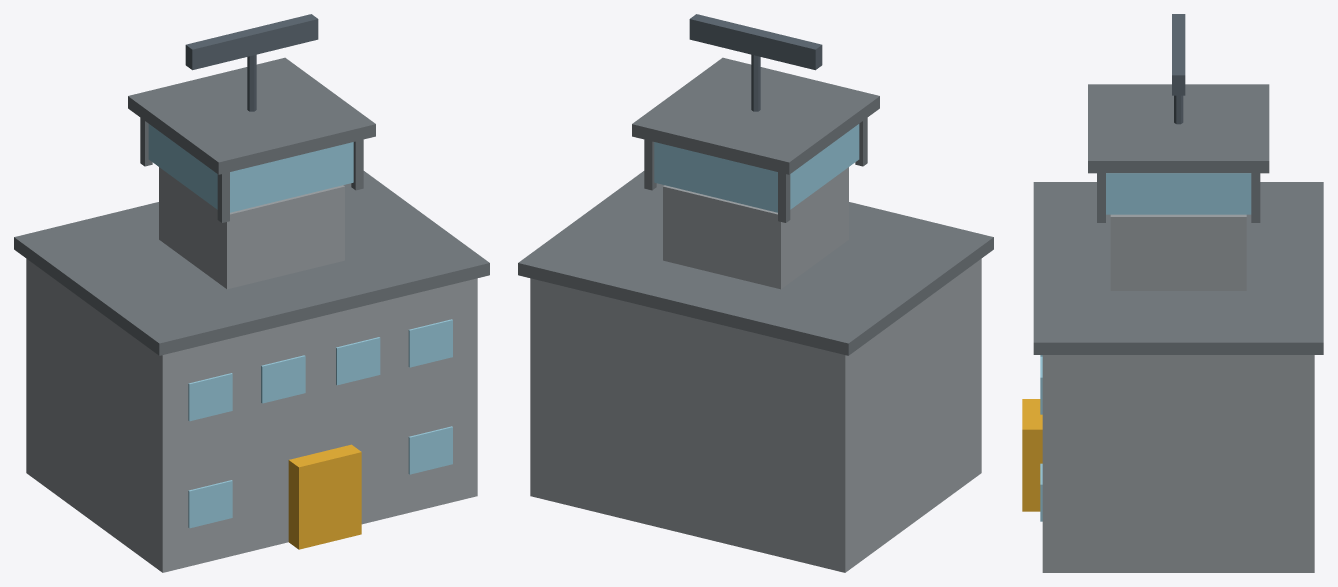
File: office.glb
3 renders of one model, left to right at view 1: azimuth 30°, elevation 25°; view 2: azimuth 150°, elevation 25°; view 3: azimuth 270°, elevation 25°, orthographic.
Parts seen in each view (by area): view 1: Body, Windows, Radar; view 2: Body, Windows, Radar; view 3: Body, Windows, Radar.
Boxes of the visible parts, box(x1,y1,x2,y2) form: Body: box(14, 54, 489, 572); Windows: box(148, 124, 452, 528); Radar: box(185, 14, 318, 70); Body: box(518, 54, 993, 572); Windows: box(654, 124, 859, 212); Radar: box(689, 14, 822, 70); Body: box(1022, 84, 1323, 572); Windows: box(1040, 173, 1251, 521); Radar: box(1172, 14, 1185, 95).
Size of the model in its own units: 8.4 by 11 by 6.65.
